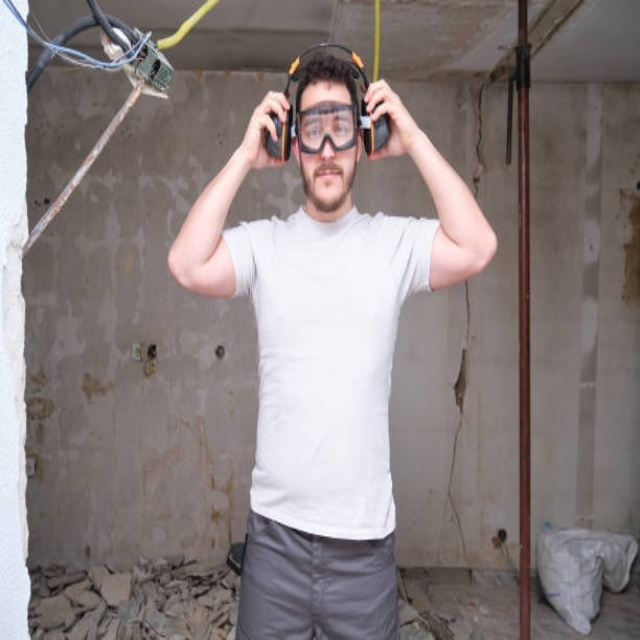Gafas: (295, 101, 361, 154)
Sin_guantes: (363, 71, 411, 166), (245, 88, 291, 171)
Sin_mascara: (313, 163, 344, 202)
